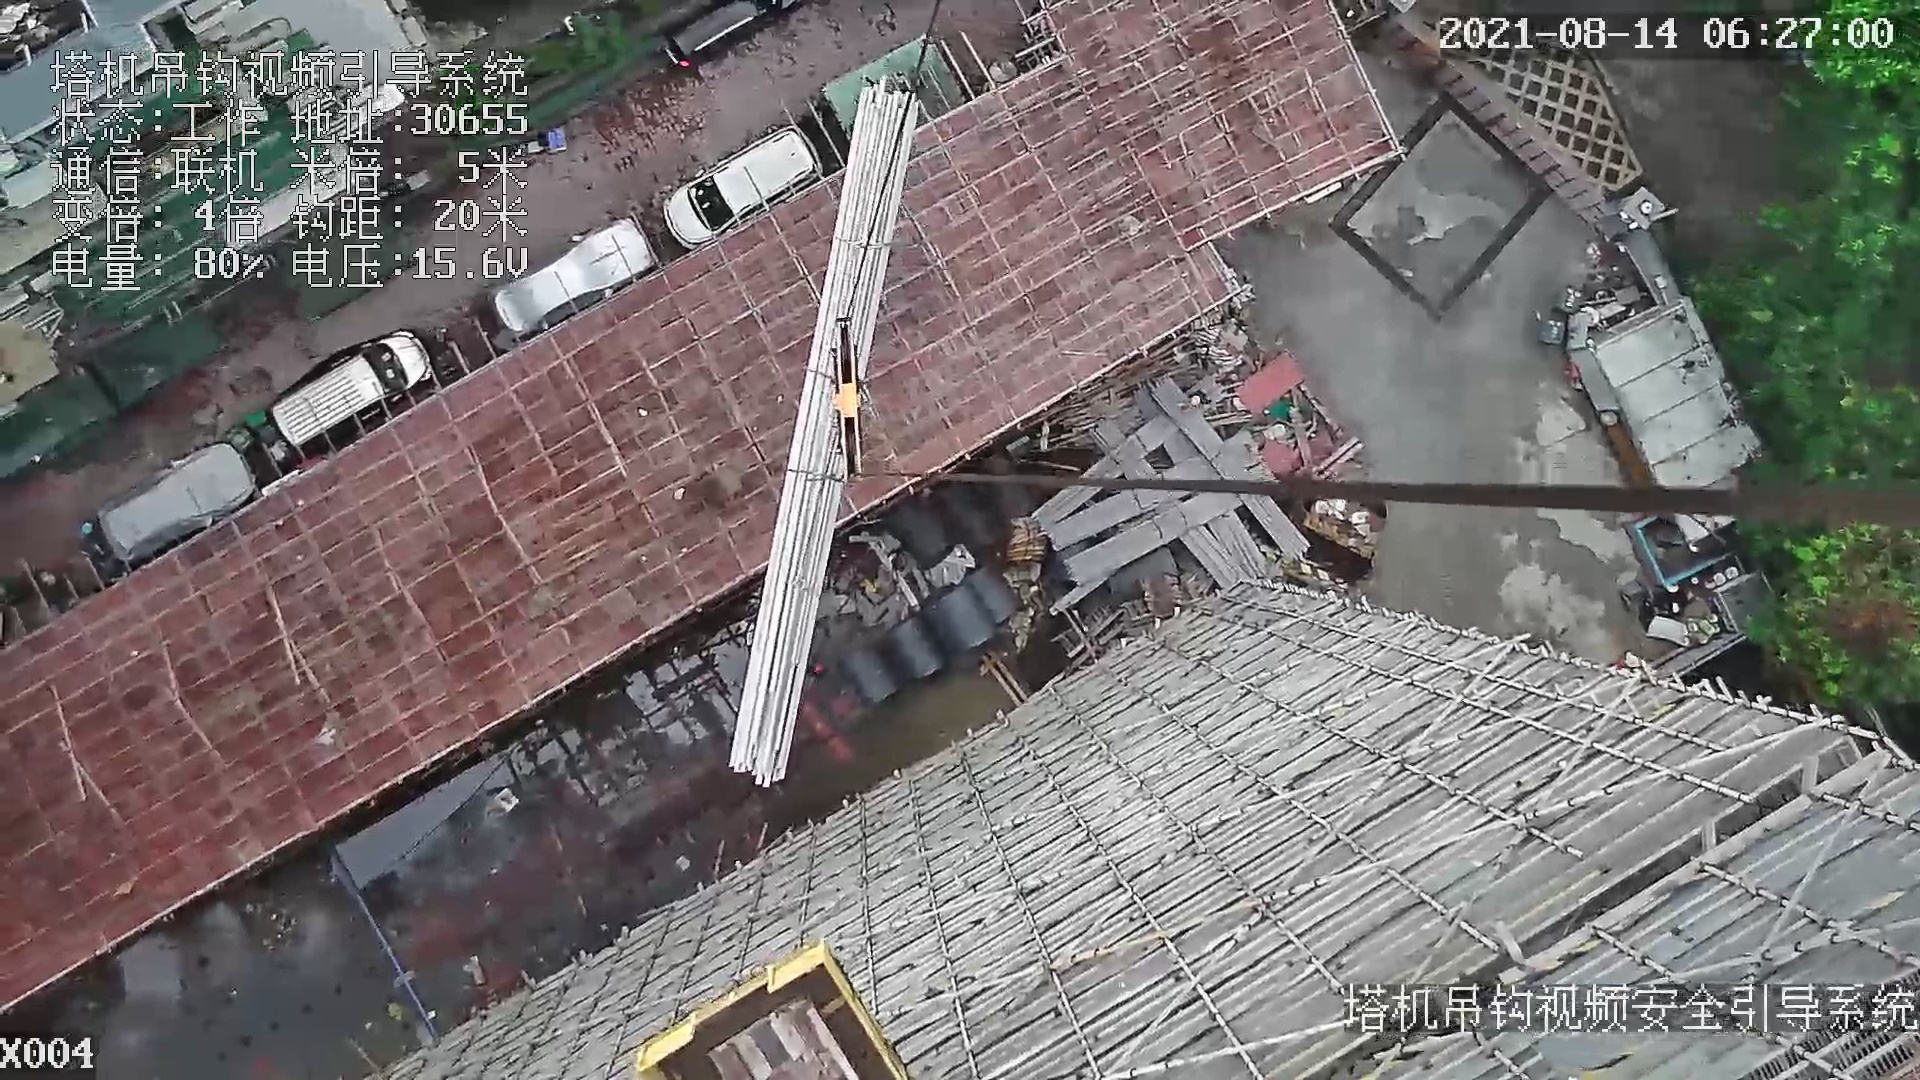hook: (825, 313, 877, 487)
